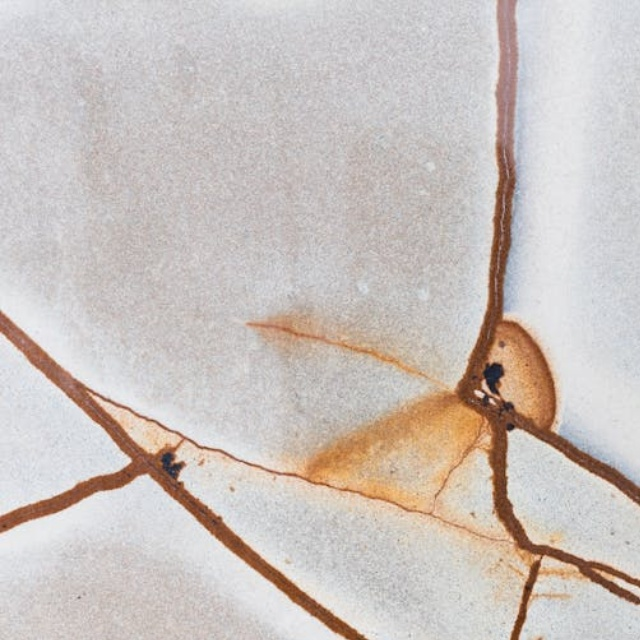细微裂纹: (420, 7, 553, 510), (450, 0, 542, 355)
网状裂隙: (88, 0, 240, 479), (15, 0, 119, 461), (62, 0, 158, 460)
